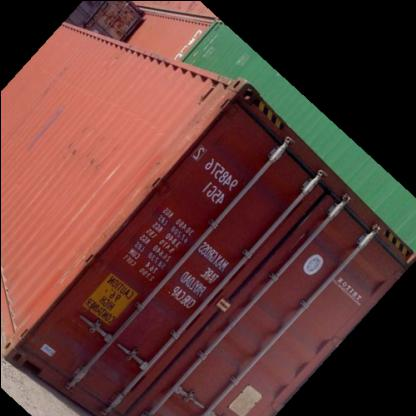Damage: (144, 292, 184, 335), (24, 104, 60, 146), (34, 61, 70, 94), (59, 138, 84, 157), (87, 150, 105, 174)
